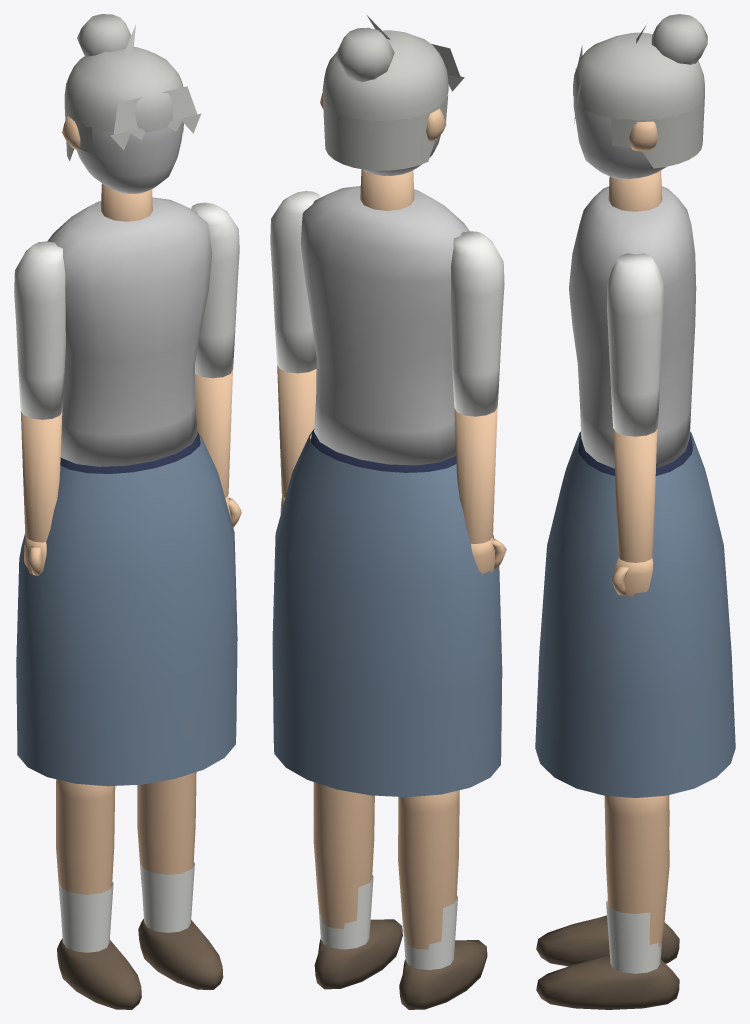
Rendered from granny.glb.
3 renders of one model, left to right at view 1: azimuth 30°, elevation 25°; view 2: azimuth 150°, elevation 25°; view 3: azimuth 270°, elevation 25°, orthographic. The views are drawn at different scales.
Visible parts, largest first — view 1: hips, torso, head, shinR, shinL, armR, armL, foreR, foreL; view 2: hips, torso, head, shinR, shinL, armR, armL, foreR, foreL; view 3: hips, torso, head, shinL, armL, foreL, shinR.
Boxes of the visible parts, bbox=[...] form: hips: bbox=[16, 432, 237, 786]; torso: bbox=[47, 183, 212, 466]; head: bbox=[62, 14, 201, 193]; shinR: bbox=[56, 779, 141, 1009]; shinL: bbox=[137, 772, 223, 989]; armR: bbox=[14, 241, 65, 419]; armL: bbox=[191, 202, 239, 378]; foreR: bbox=[20, 411, 62, 576]; foreL: bbox=[195, 370, 241, 527]; hips: bbox=[272, 429, 502, 797]; torso: bbox=[300, 169, 469, 465]; head: bbox=[320, 15, 464, 175]; shinR: bbox=[398, 790, 487, 1009]; shinL: bbox=[313, 782, 402, 989]; armR: bbox=[450, 231, 504, 416]; armL: bbox=[270, 191, 320, 373]; foreR: bbox=[454, 407, 506, 573]; foreL: bbox=[277, 365, 316, 513]; hips: bbox=[535, 431, 735, 797]; torso: bbox=[569, 170, 696, 468]; head: bbox=[573, 14, 707, 179]; shinL: bbox=[536, 795, 679, 1009]; armL: bbox=[607, 253, 663, 436]; foreL: bbox=[611, 429, 657, 596]; shinR: bbox=[536, 795, 679, 966].
Size of the model in its own units: 0.3863 by 1.58 by 0.2992.
